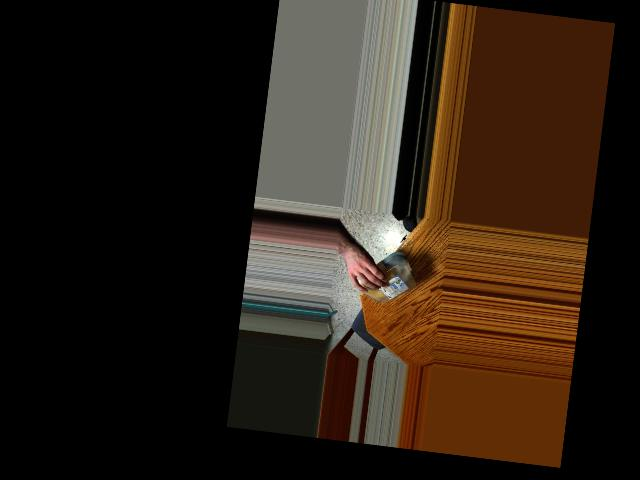cheese: (348, 248, 420, 308)
